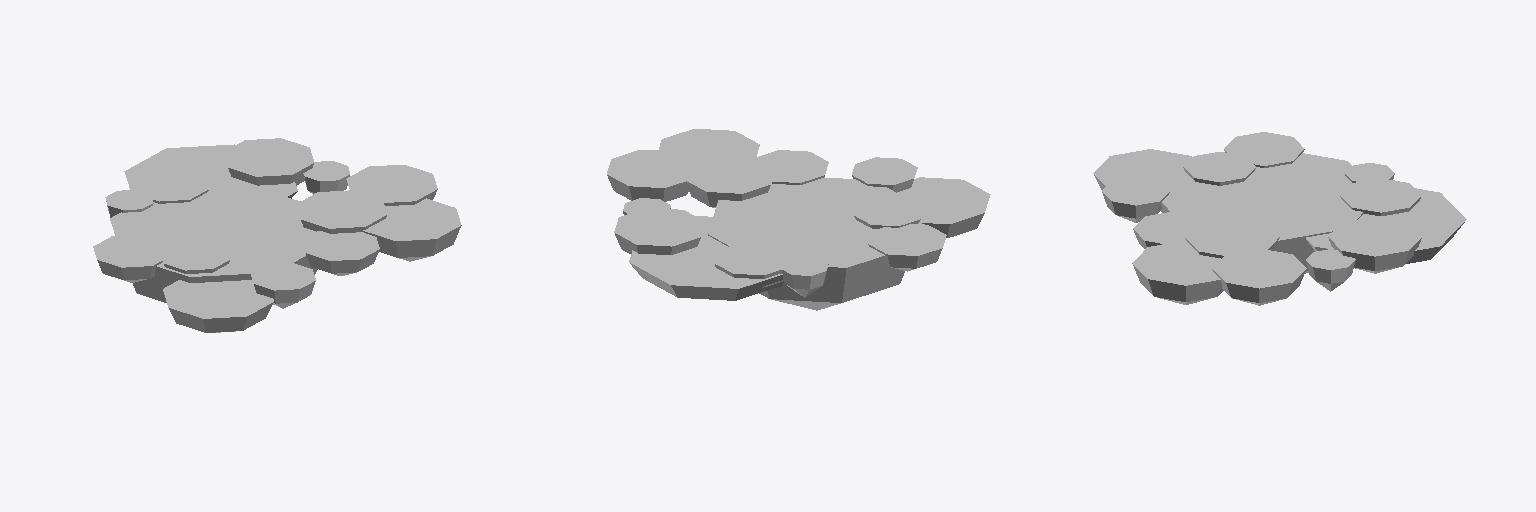
File: LillyPad_05.obj
3 views of the same model, side by side, from view 1: azimuth 30°, elevation 25°; view 2: azimuth 150°, elevation 25°; view 3: azimuth 270°, elevation 25° (orthographic).
Parts seen in each view (by area): view 1: Pad05; view 2: Pad05; view 3: Pad05.
Boxes of the visible parts, x1=… form: Pad05: x1=93, y1=138, x2=461, y2=332; Pad05: x1=607, y1=129, x2=990, y2=310; Pad05: x1=1093, y1=132, x2=1466, y2=305.
Size of the model in its own units: 3 by 0.839 by 2.91.